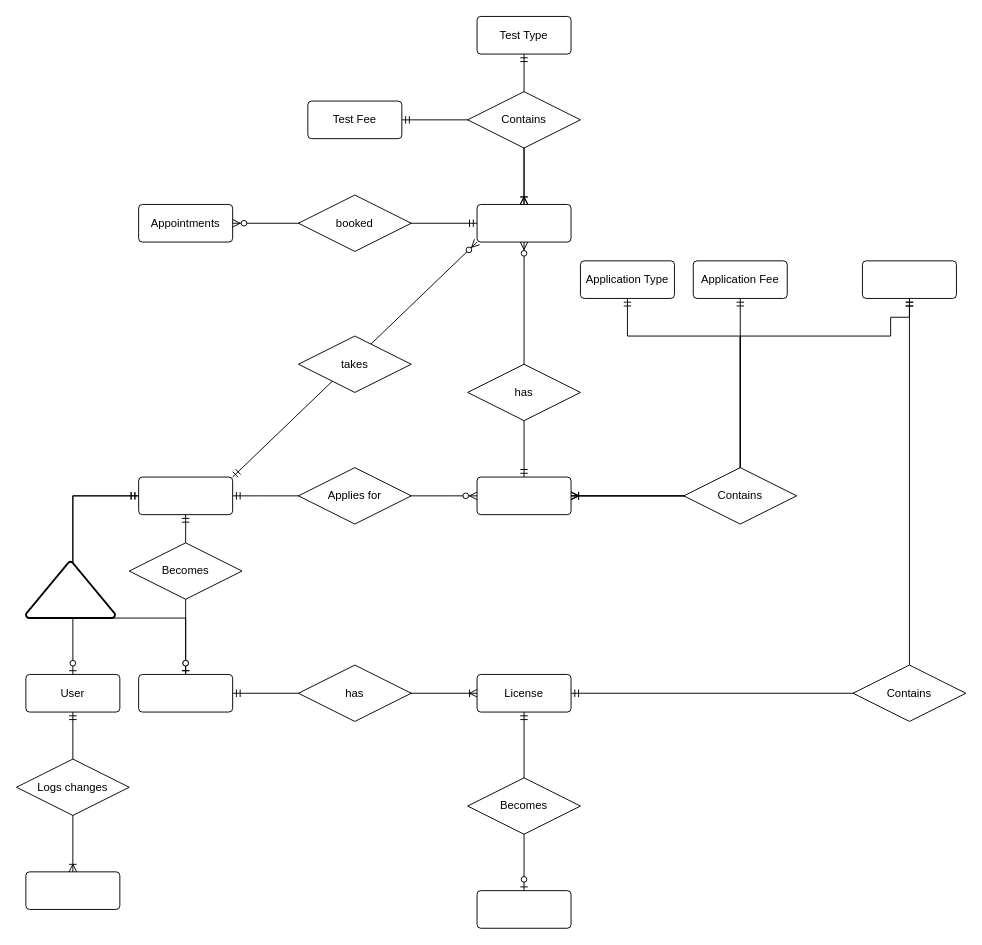
This 982x945 diagram has some shape labels left out. Here are the shapes that lost their labels. From the top down, the centre of each, then its label:
[523,223]: Test
[909,279]: License Type
[185,495]: Person
[523,495]: Application
[70,589]: is a
[185,693]: Driver
[72,890]: Changes History
[523,909]: Detained License
